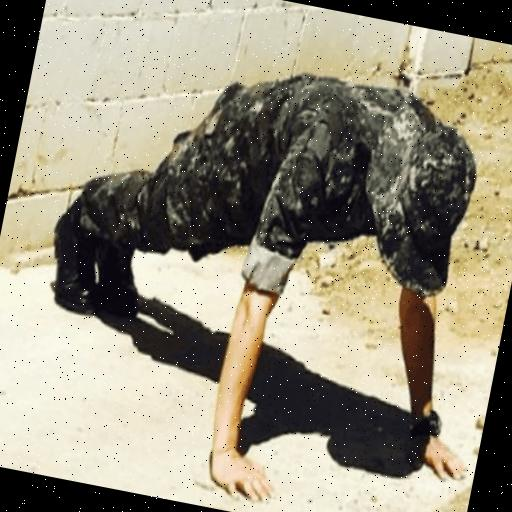korea army: (7, 27, 512, 512)
